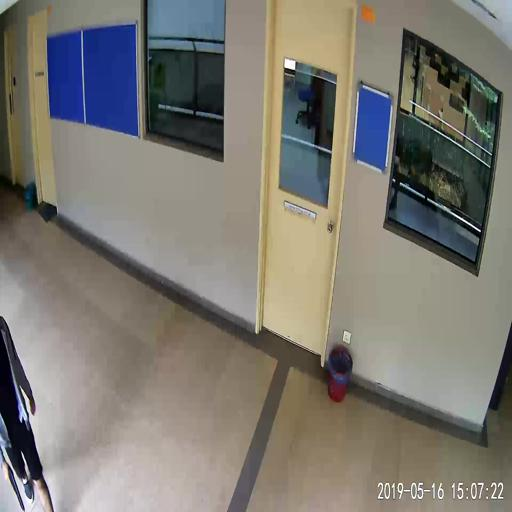pistol: (3, 459, 24, 510)
